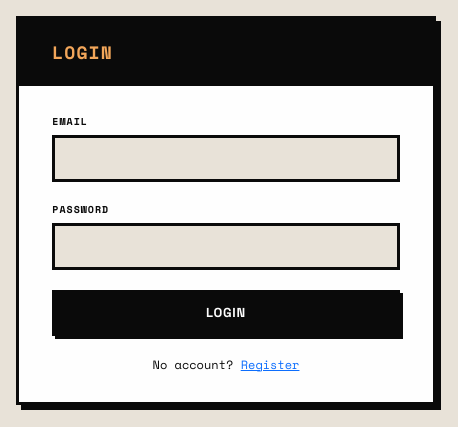
Test: Login page › disables the submit button while loading
The image size is (458, 427).
Type "a@a.com" into the field labelled "Email". click: (226, 159)
box: [52,135,400,182]
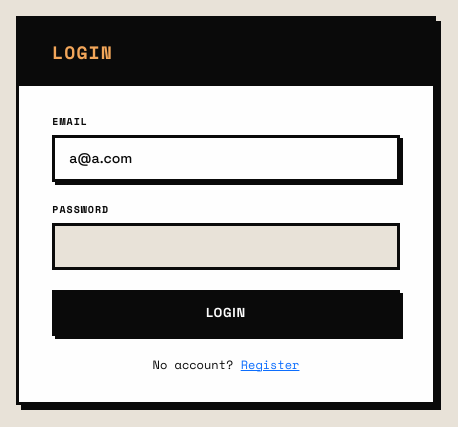
Type "pass" into the password field labelled "Password". click: (226, 247)
box: [52,223,400,270]
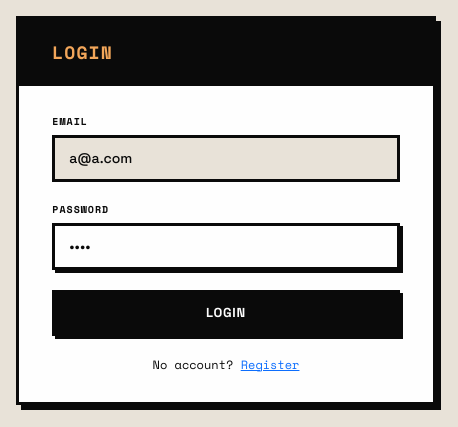
Click the button "Login". click: (226, 313)
box: [52,290,400,336]
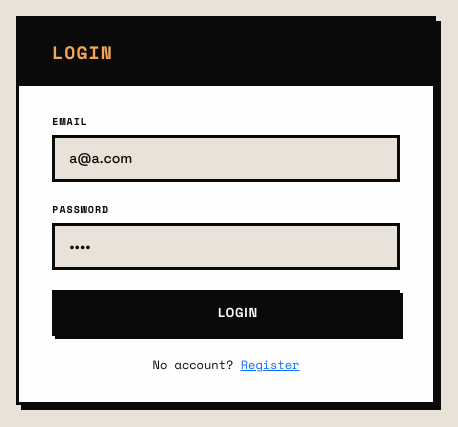
Expected: the button "Login" is disabled, [52,290,400,336]
